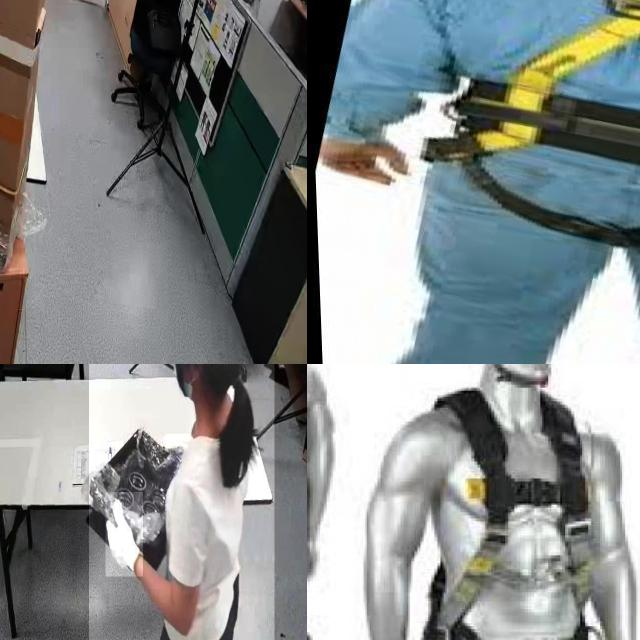Harness: (412, 390, 603, 640), (504, 0, 640, 113), (476, 119, 546, 152)
hand_glove: (105, 492, 144, 578)
person: (89, 364, 275, 640)
